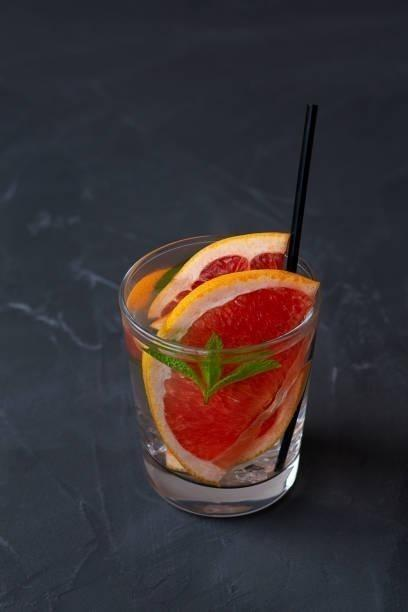glass-normal: (116, 231, 323, 519)
